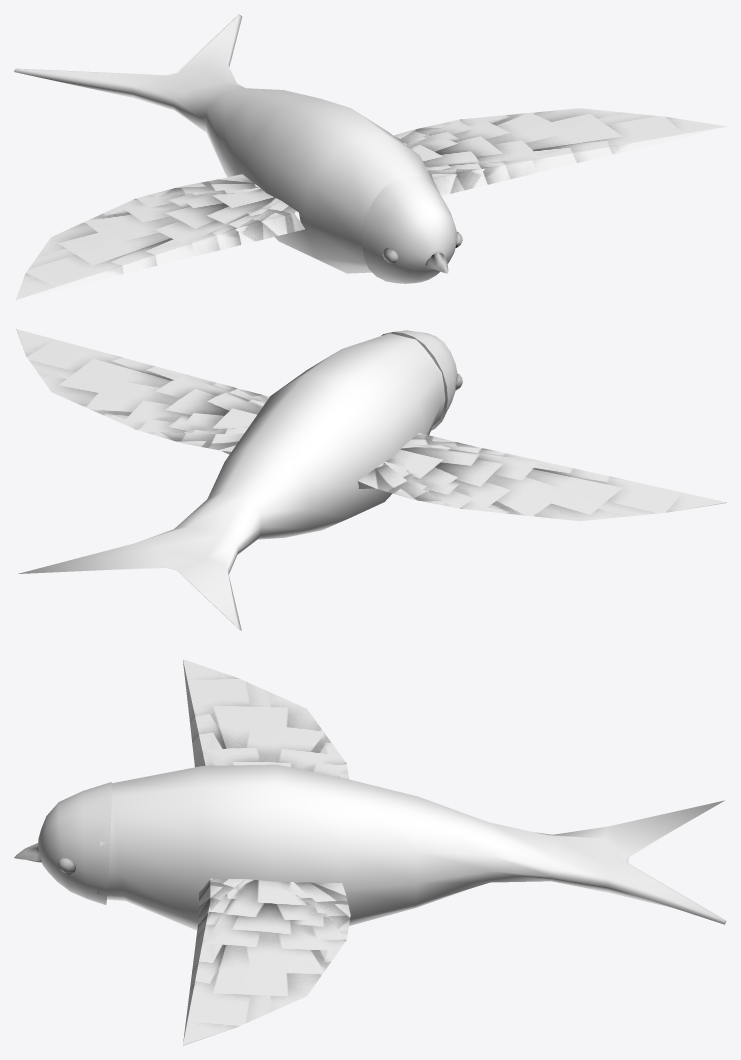
The model's file is Bird.fbx.
The picture shows the model from 3 angles, top to bottom: view 1: azimuth 30°, elevation 25°; view 2: azimuth 150°, elevation 25°; view 3: azimuth 270°, elevation 25°; orthographic projection. The views are drawn at different scales.
Parts seen in each view (by area): view 1: BodyGeo, wingRight, WingLeft, Head; view 2: BodyGeo, wingRight, WingLeft, Head; view 3: BodyGeo, WingLeft, wingRight, Head.
Boxes of the visible parts, x1=… form: BodyGeo: x1=14, y1=14, x2=445, y2=273; wingRight: x1=15, y1=174, x2=304, y2=300; WingLeft: x1=394, y1=108, x2=726, y2=195; Head: x1=362, y1=176, x2=457, y2=283; BodyGeo: x1=15, y1=333, x2=445, y2=630; wingRight: x1=358, y1=433, x2=726, y2=521; WingLeft: x1=16, y1=329, x2=269, y2=454; Head: x1=394, y1=330, x2=457, y2=418; BodyGeo: x1=97, y1=764, x2=726, y2=929; WingLeft: x1=183, y1=878, x2=350, y2=1045; wingRight: x1=183, y1=659, x2=348, y2=779; Head: x1=38, y1=782, x2=111, y2=904.
Size of the model in its own units: 43.31 by 7.9 by 33.79.
